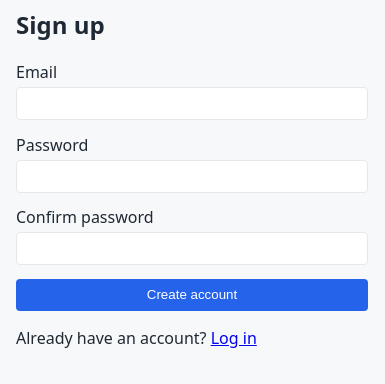
Test: SignupPage › shows a generic error on 500 and keeps the form usable (MSW)
This screenshot has width=385, height=384.
In the field labelled "Email": (192, 103) [16,87,368,120], type "alice@example.com"
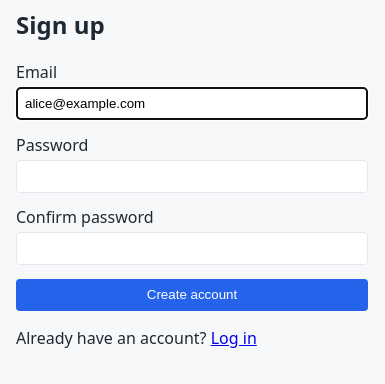
In the password field labelled "Password": (192, 176) [16,160,368,192], type "password1"
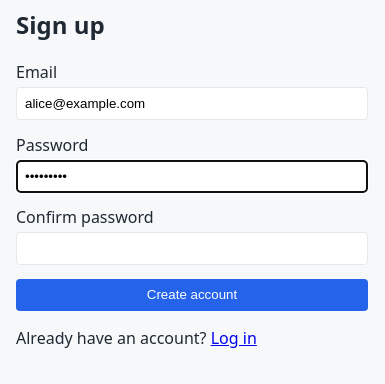
In the password field labelled "Confirm password": (192, 249) [16,232,368,265], type "password1"
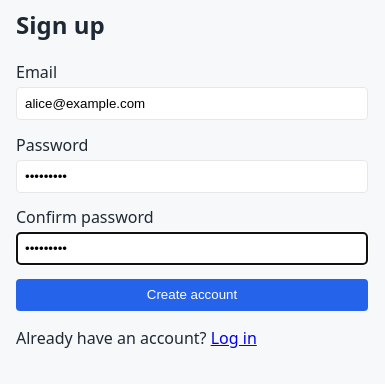
Click the button "Create account": (192, 295) [16,279,368,311]
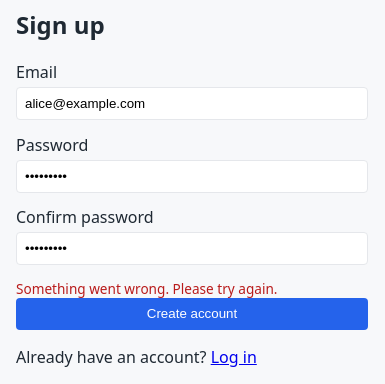
Check: the button "Create account" is enabled, box [16,298,368,330]
Check: the text "Something went wrong. Please try again." is shown, box [16,279,278,298]
